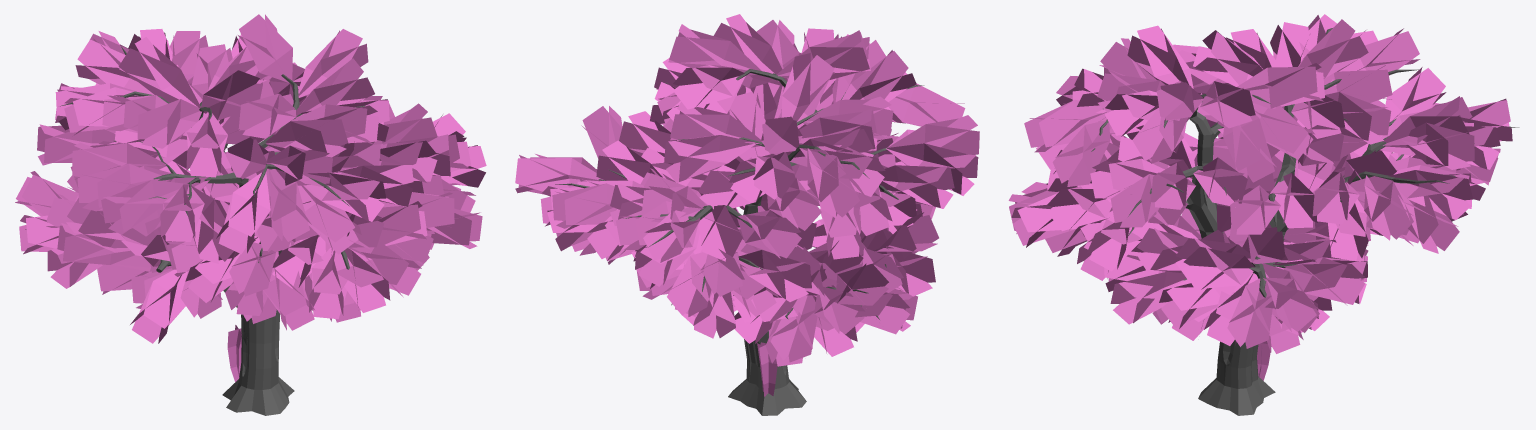
The model's file is m_tree_sakura01.fbx.
3 renders of one model, left to right at view 1: azimuth 30°, elevation 25°; view 2: azimuth 150°, elevation 25°; view 3: azimuth 270°, elevation 25°, orthographic.
Visible parts, largest first — view 1: mesh_tree_sakura01_LOD0; view 2: mesh_tree_sakura01_LOD0; view 3: mesh_tree_sakura01_LOD0.
Boxes of the visible parts, <box> form: mesh_tree_sakura01_LOD0: <box>15,14,486,415</box>; mesh_tree_sakura01_LOD0: <box>515,14,979,415</box>; mesh_tree_sakura01_LOD0: <box>1008,14,1519,415</box>.
Size of what is drawn, in the model's own units: 11.68 by 9.38 by 12.31.
